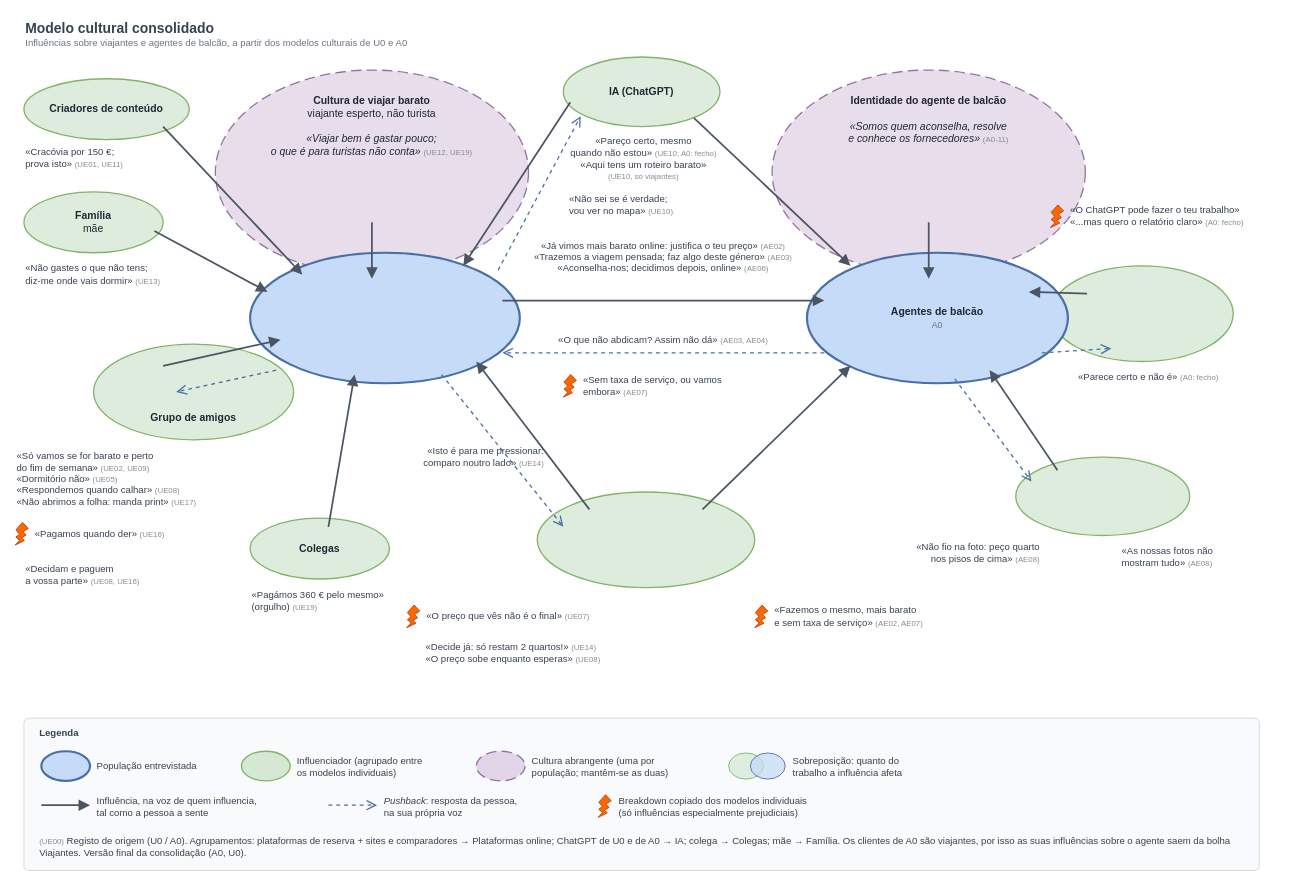
This 1310x886 diagram has some shape labels left out. The shapes that lost their labels are listed below. From the top down, each one's centre as x and y in pixels, then its label:
(x=385, y=317): Viajantes organizador(a) do grupo, cliente U0 · clientes de A0
(x=1141, y=313): Supervisor chefia da agência
(x=1102, y=496): Fornecedores hotéis
(x=645, y=539): Plataformas online reservas, comparadores
